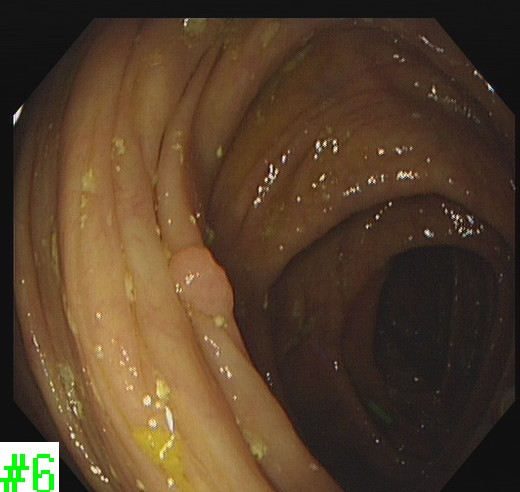adenoma: (167, 244, 235, 321)
